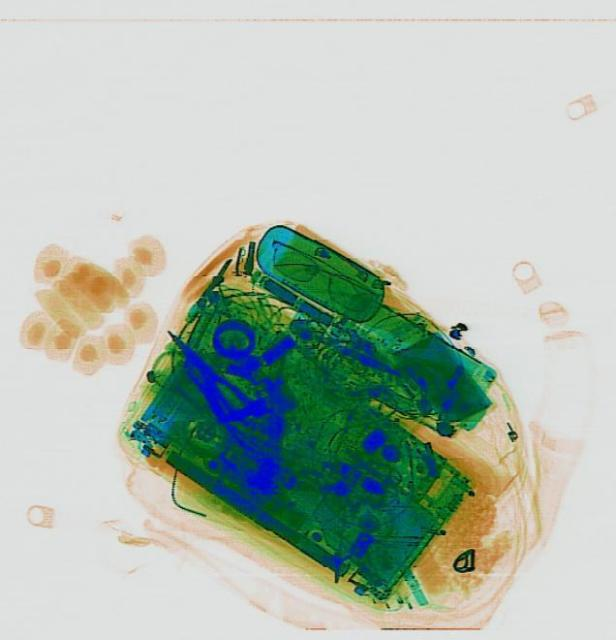Pliers: (154, 320, 259, 428)
